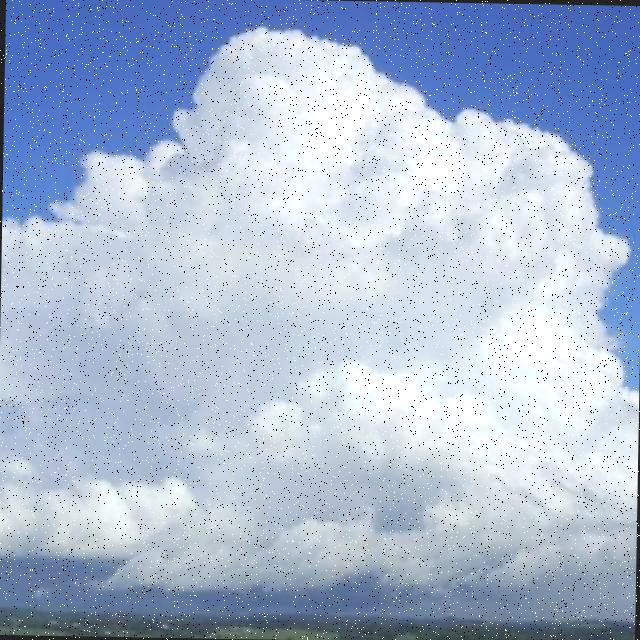Cb: (1, 43, 640, 488)
